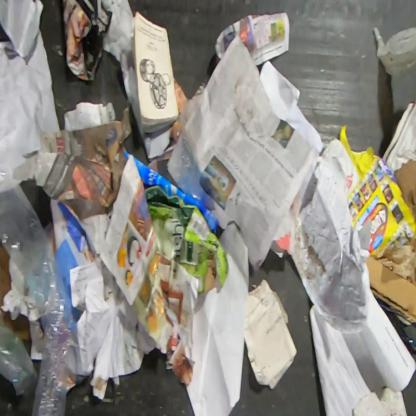cardboard: (338, 124, 415, 259), (144, 184, 229, 293), (365, 255, 416, 324), (394, 159, 415, 221)
soft_plastic: (0, 158, 76, 416), (372, 25, 415, 116), (0, 310, 37, 398), (166, 125, 206, 206)
